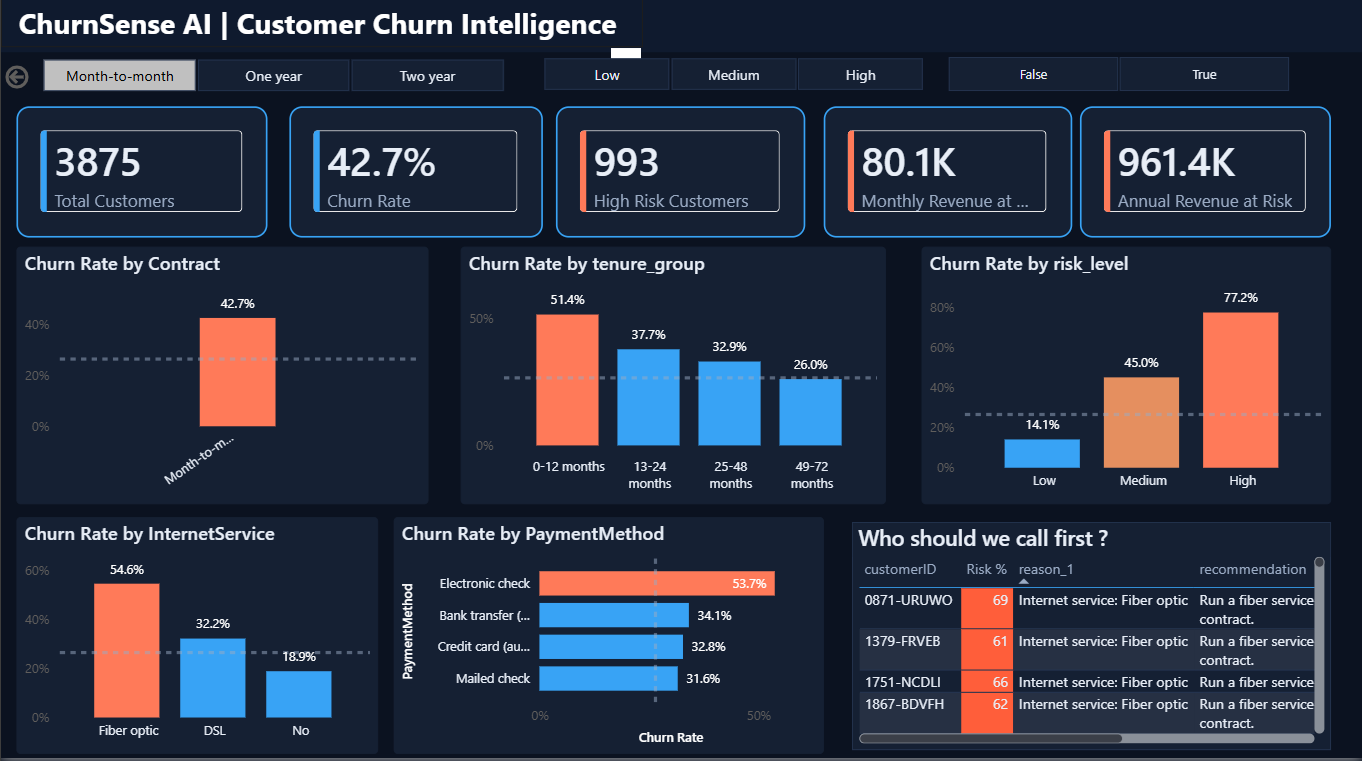

The page's visual inventory and layout, read from the dashboard file:
{"tool":"powerbi","page":{"name":"overview","canvas":[1280,720],"ordinal":0},"visuals":[{"type":"shape","box":[0,0,1280,55.7],"z":0},{"type":"textbox","box":[0,4.8,603.1,46],"z":1000},{"type":"cardVisual","fields":{"Data":["powerbi_data.Total Customers"]},"box":[14.5,106.6,236.1,123.5],"z":2000},{"type":"cardVisual","fields":{"Data":["powerbi_data.Churn Rate"]},"box":[271.3,106.6,238.6,123.5],"z":3000},{"type":"cardVisual","fields":{"Data":["powerbi_data.High Risk Customers"]},"box":[521.9,106.6,234.9,123.5],"z":4000},{"type":"cardVisual","fields":{"Data":["powerbi_data.Monthly Revenue at Risk"]},"box":[773.8,106.6,233.7,123.5],"z":5000},{"type":"cardVisual","fields":{"Data":["powerbi_data.Annual Revenue at Risk"]},"box":[1014.8,106.6,236.1,123.5],"z":6000},{"type":"clusteredColumnChart","fields":{"Category":["powerbi_data.Contract"],"Y":["powerbi_data.Churn Rate"]},"box":[14.5,238.6,387.5,242.2],"z":7000},{"type":"clusteredColumnChart","fields":{"Y":["powerbi_data.Churn Rate"],"Category":["powerbi_data.tenure_group"]},"box":[432.3,238.6,399.6,242.2],"z":8000},{"type":"clusteredColumnChart","fields":{"Y":["powerbi_data.Churn Rate"],"Category":["powerbi_data.risk_level"]},"box":[865.9,238.6,385.1,242.2],"z":9000},{"type":"clusteredColumnChart","fields":{"Y":["powerbi_data.Churn Rate"],"Category":["powerbi_data.InternetService"]},"box":[14.5,492.9,340.3,222.8],"z":10000},{"type":"clusteredBarChart","fields":{"Category":["powerbi_data.PaymentMethod"],"Y":["powerbi_data.Churn Rate"]},"box":[369.4,492.9,404.5,222.8],"z":11000},{"type":"tableEx","title":"Who should we call first ?","fields":{"Values":["powerbi_data.customerID","powerbi_data.churn_probability","powerbi_data.reason_1","powerbi_data.recommendation"]},"box":[800.5,497.7,450.5,214.3],"z":12000},{"type":"actionButton","box":[0,59.3,30.3,40],"z":13000},{"type":"slicer","fields":{"Values":["powerbi_data.Contract"]},"box":[14.5,55.7,482,43.6],"z":14000},{"type":"slicer","fields":{"Values":["powerbi_data.risk_level"]},"box":[485.6,54.5,405.7,43.6],"z":15000},{"type":"slicer","fields":{"Values":["powerbi_data.in_test_set"]},"box":[865.9,53.3,369.4,46],"z":16000}]}

Visuals, with their boxes in screenshot pixels (x1, y1, x2, y2), scaled from the page's 1280x720 canvas onto the 1362x761 screenshot:
shape: left=0, top=0, right=1361, bottom=59
textbox: left=0, top=5, right=642, bottom=54
cardVisual - powerbi_data.Total Customers: left=15, top=113, right=267, bottom=243
cardVisual - powerbi_data.Churn Rate: left=289, top=113, right=543, bottom=243
cardVisual - powerbi_data.High Risk Customers: left=555, top=113, right=805, bottom=243
cardVisual - powerbi_data.Monthly Revenue at Risk: left=823, top=113, right=1072, bottom=243
cardVisual - powerbi_data.Annual Revenue at Risk: left=1080, top=113, right=1331, bottom=243
clusteredColumnChart - powerbi_data.Contract x powerbi_data.Churn Rate: left=15, top=252, right=428, bottom=508
clusteredColumnChart - powerbi_data.Churn Rate x powerbi_data.tenure_group: left=460, top=252, right=885, bottom=508
clusteredColumnChart - powerbi_data.Churn Rate x powerbi_data.risk_level: left=921, top=252, right=1331, bottom=508
clusteredColumnChart - powerbi_data.Churn Rate x powerbi_data.InternetService: left=15, top=521, right=378, bottom=756
clusteredBarChart - powerbi_data.PaymentMethod x powerbi_data.Churn Rate: left=393, top=521, right=823, bottom=756
"Who should we call first ?" tableEx: left=852, top=526, right=1331, bottom=753
actionButton: left=0, top=63, right=32, bottom=105
slicer - powerbi_data.Contract: left=15, top=59, right=528, bottom=105
slicer - powerbi_data.risk_level: left=517, top=58, right=948, bottom=104
slicer - powerbi_data.in_test_set: left=921, top=56, right=1314, bottom=105
